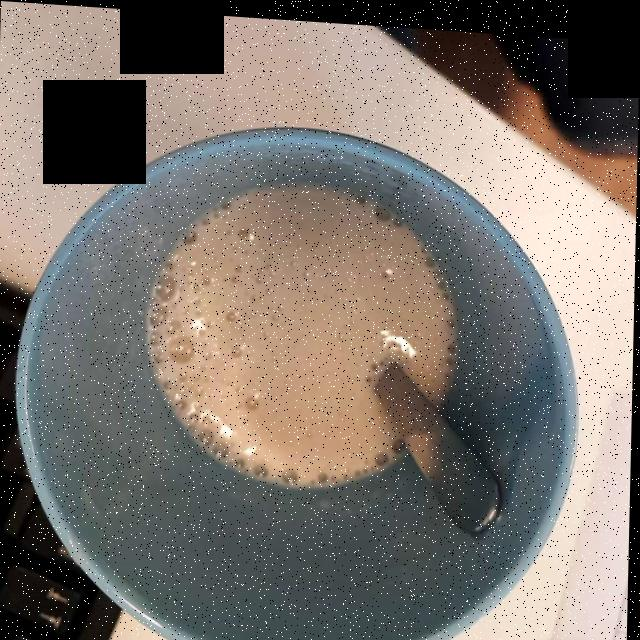milk: (152, 177, 456, 485)
